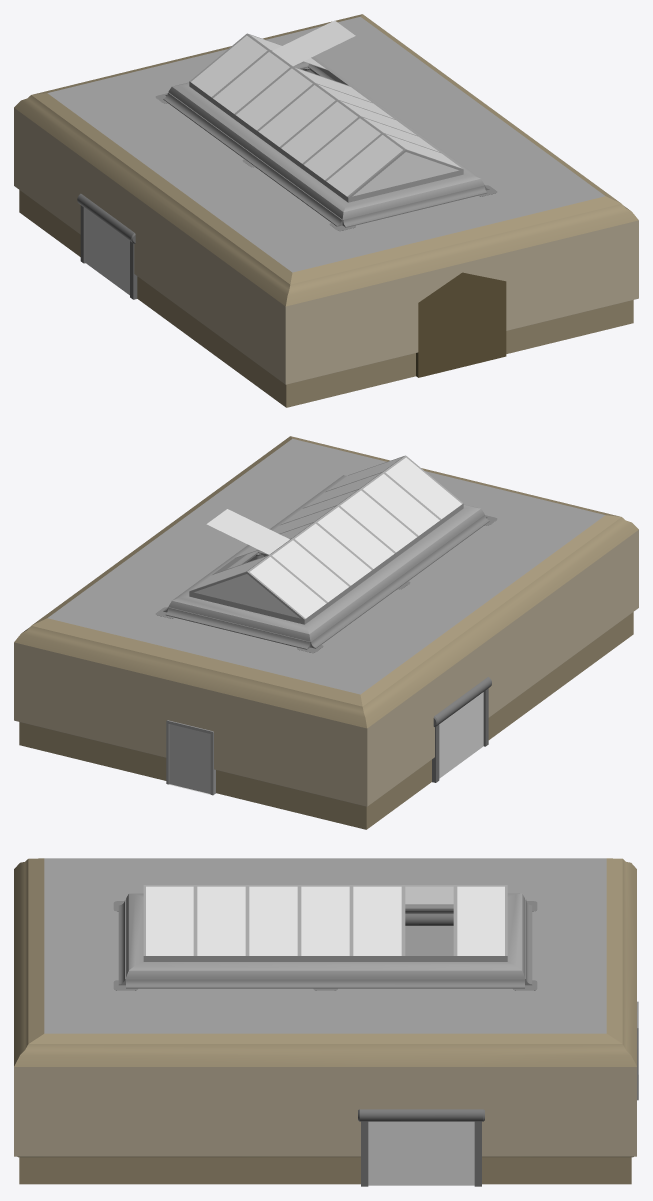
The model's file is Museum.fbx.
The picture shows the model from 3 angles, top to bottom: view 1: azimuth 30°, elevation 25°; view 2: azimuth 150°, elevation 25°; view 3: azimuth 270°, elevation 25°; orthographic projection. The views are drawn at different scales.
Parts seen in each view (by area): view 1: Museum_Walls, Museum_Ceilling, Cloroboia, Temple1, Gate2, Support, Open_Window; view 2: Museum_Walls, Museum_Ceilling, Cloroboia, Gate2, Support, Door_Closed, Open_Window, Door_Frame1; view 3: Museum_Walls, Museum_Ceilling, Cloroboia, Gate2, Support, Open_Window.
Boxes of the visible parts, box(x1,y1,x2,y2) form: Museum_Walls: box(14, 14, 638, 407); Museum_Ceilling: box(47, 16, 605, 272); Cloroboia: box(189, 33, 462, 197); Temple1: box(416, 272, 506, 377); Gate2: box(77, 193, 137, 299); Support: box(163, 62, 489, 227); Open_Window: box(272, 20, 355, 66); Museum_Walls: box(14, 436, 638, 829); Museum_Ceilling: box(47, 438, 605, 694); Cloroboia: box(190, 455, 463, 619); Gate2: box(432, 677, 491, 782); Support: box(163, 514, 489, 649); Door_Closed: box(169, 724, 210, 793); Open_Window: box(206, 509, 289, 554); Door_Frame1: box(166, 720, 215, 795); Museum_Walls: box(14, 858, 636, 1184); Museum_Ceilling: box(44, 858, 606, 1033); Cloroboia: box(143, 885, 507, 955); Gate2: box(358, 913, 484, 1186); Support: box(118, 899, 532, 988); Open_Window: box(405, 886, 453, 904).
Size of the model in its own units: 1293 by 659 by 1691.
